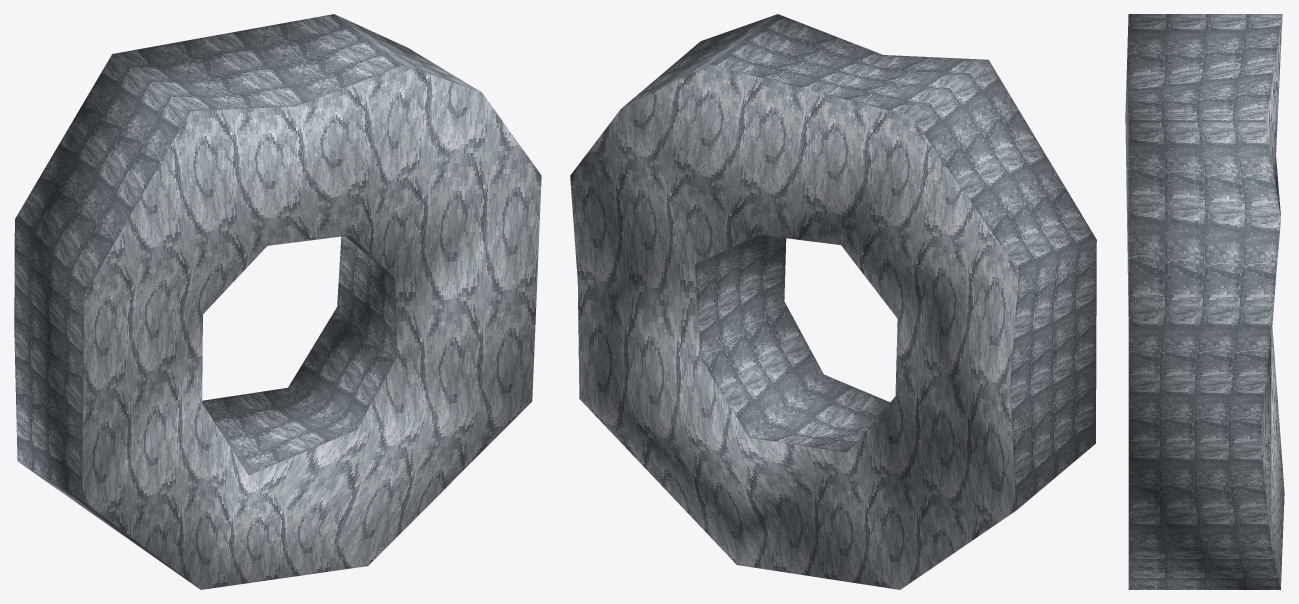
Rendered from 3346IMIG12_07.gltf.
3 views of the same model, side by side, from view 1: azimuth 30°, elevation 25°; view 2: azimuth 150°, elevation 25°; view 3: azimuth 270°, elevation 25° (orthographic).
Visible parts, largest first — view 1: 3346IMIG12_07; view 2: 3346IMIG12_07; view 3: 3346IMIG12_07.
Boxes of the visible parts, box(x1,y1,x2,y2) form: 3346IMIG12_07: box(14, 14, 541, 589); 3346IMIG12_07: box(570, 14, 1096, 589); 3346IMIG12_07: box(1125, 14, 1284, 589).
Bounding box in the file's own units: 0.8535 × 0.884 × 0.26.
Materials: 2 (2 with a texture image).
